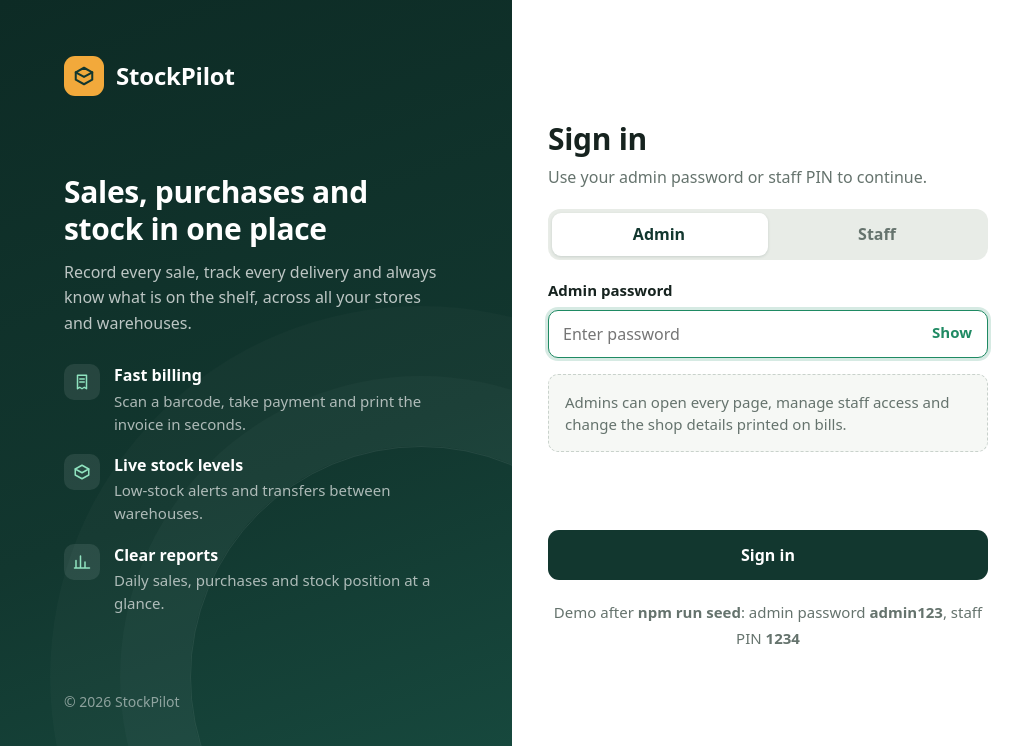
Test case: login, add item by name, edit, save sale
This screenshot has width=1024, height=746.
Type "admin123" into the password field with placeholder "Enter password".
click(768, 334); type("admin123")  # box [548, 310, 988, 358]
Then press Enter
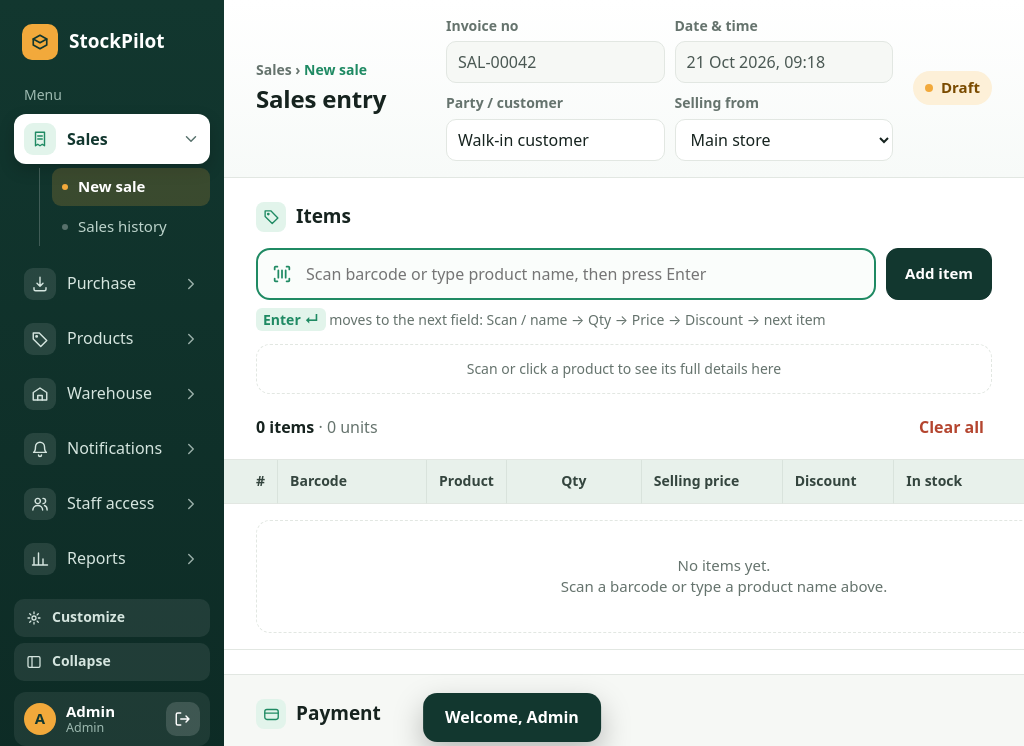
Check: the heading "Sales entry" is shown, box [256, 82, 386, 115]
Type "Sugar" into the field with placeholder "Scan barcode or type product name, then press Enter".
click(566, 274); type("Sugar")  # box [256, 248, 876, 300]
Then press Enter
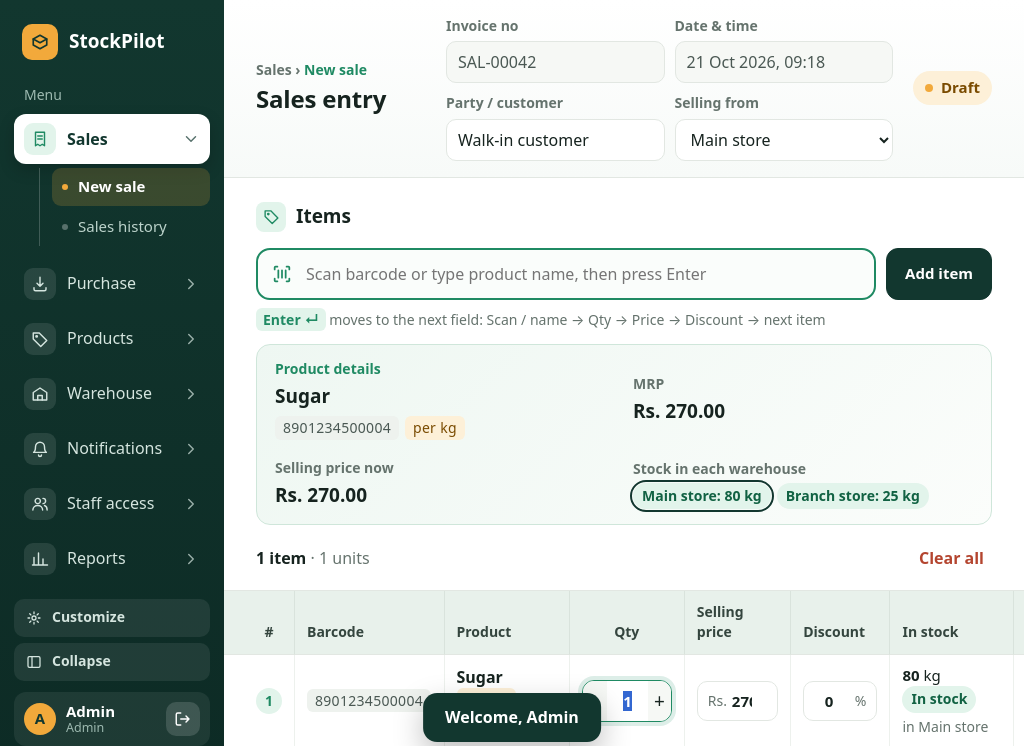
Replace the text in the number field named "Quantity for Sugar" with "3" at {"x": 628, "y": 701}, box [607, 681, 648, 721]
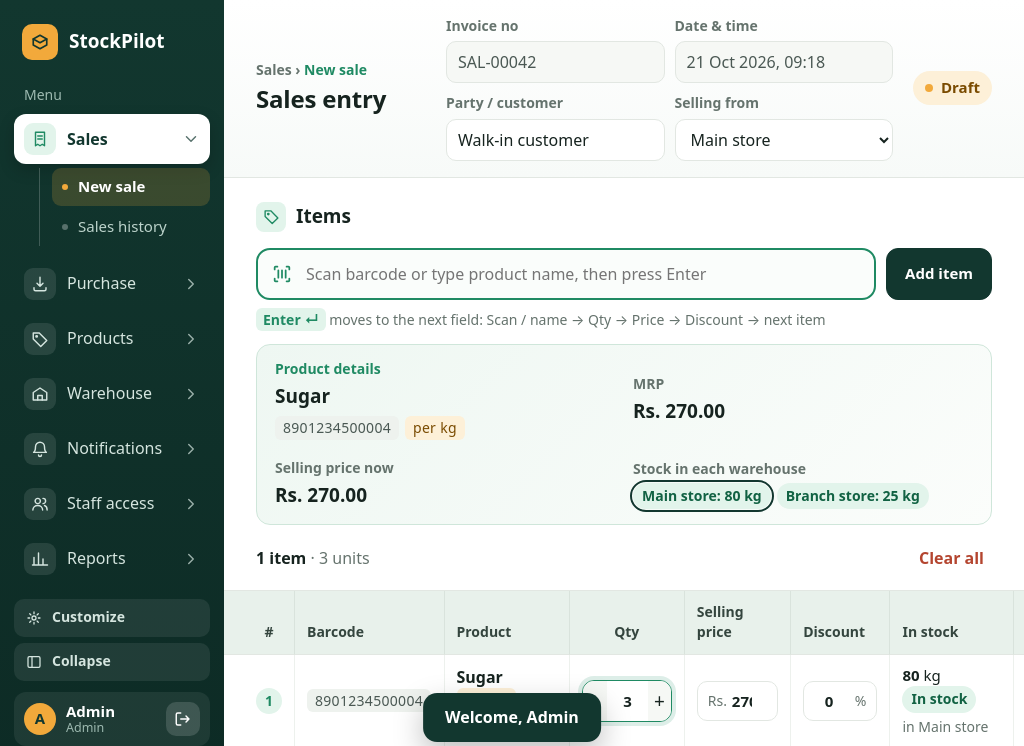
Type "10" into the number field named "Discount percent for Sugar".
click(840, 701); type("10")  # box [803, 681, 878, 721]
(page scrolled)
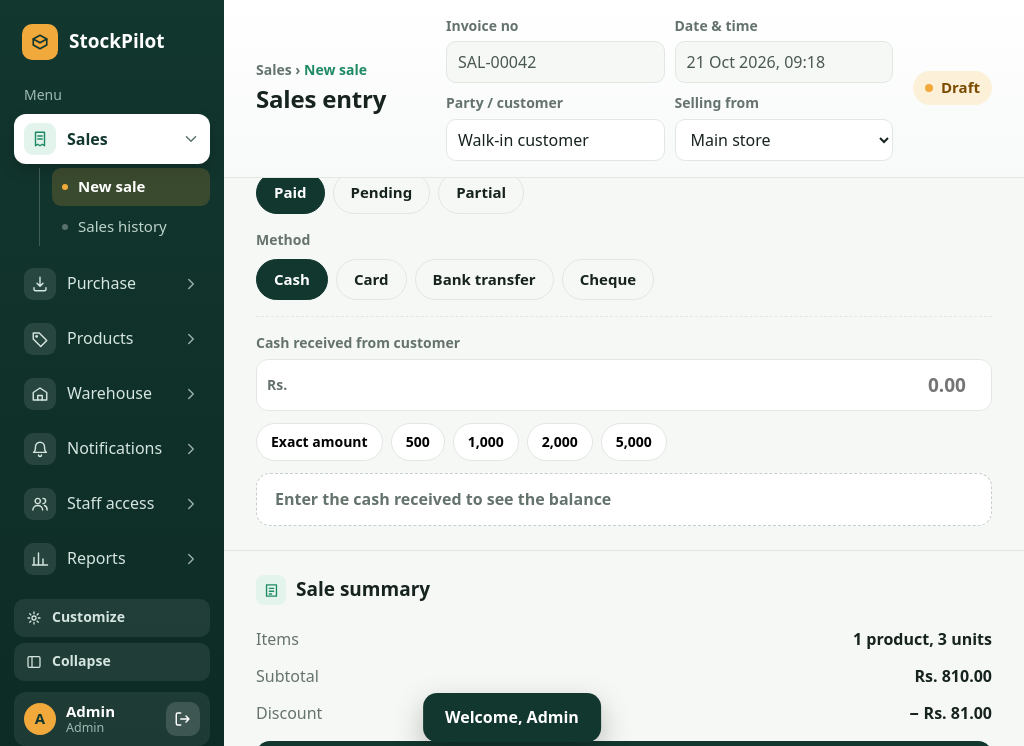
Type "1000" into the number field with id "cash".
click(624, 385); type("1000")  # box [256, 359, 992, 411]
(page scrolled)
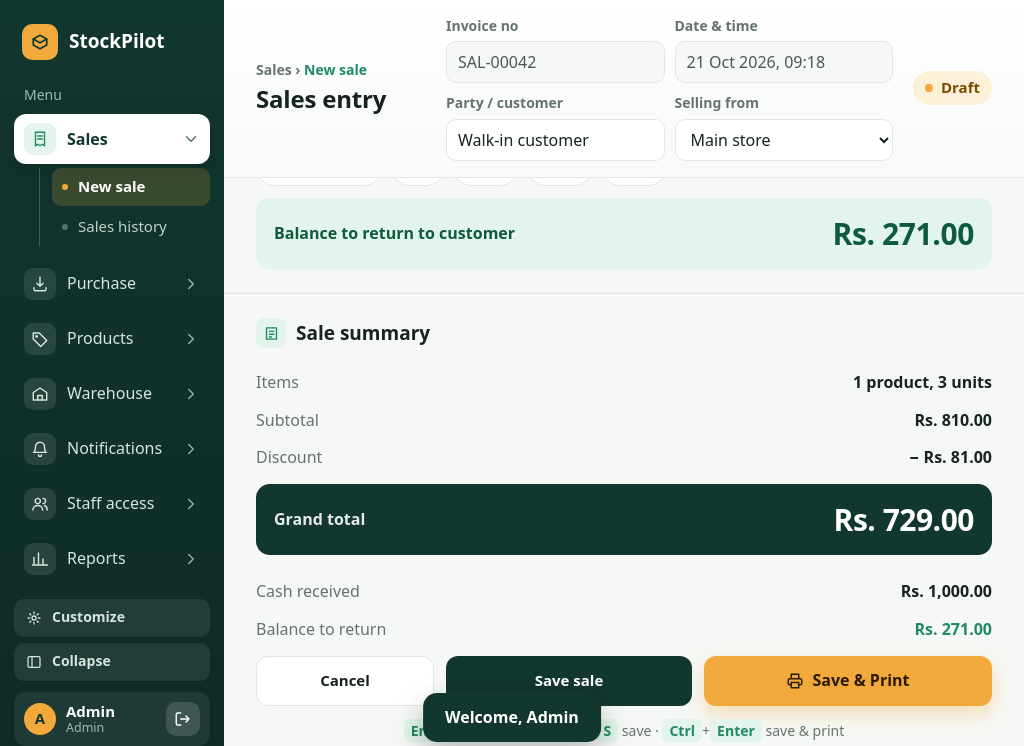
Check: the text "Rs. 271.00" is shown 2 times, box [833, 212, 974, 255]; [914, 618, 992, 641]
Click the button "Save sale".
click(569, 681)  # box [446, 656, 692, 706]
(page scrolled)
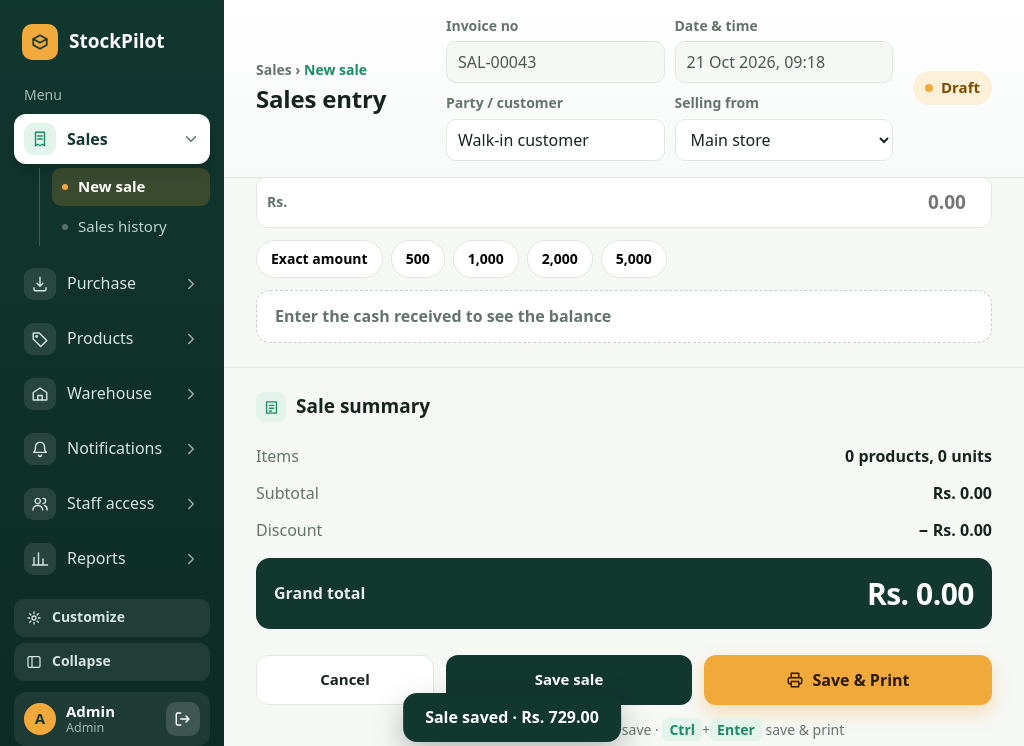
Check: the text "Sale saved · Rs. 729.00" is shown, box [403, 693, 621, 742]
Check: the field showing "SAL-00043" is shown, box [446, 41, 664, 83]
